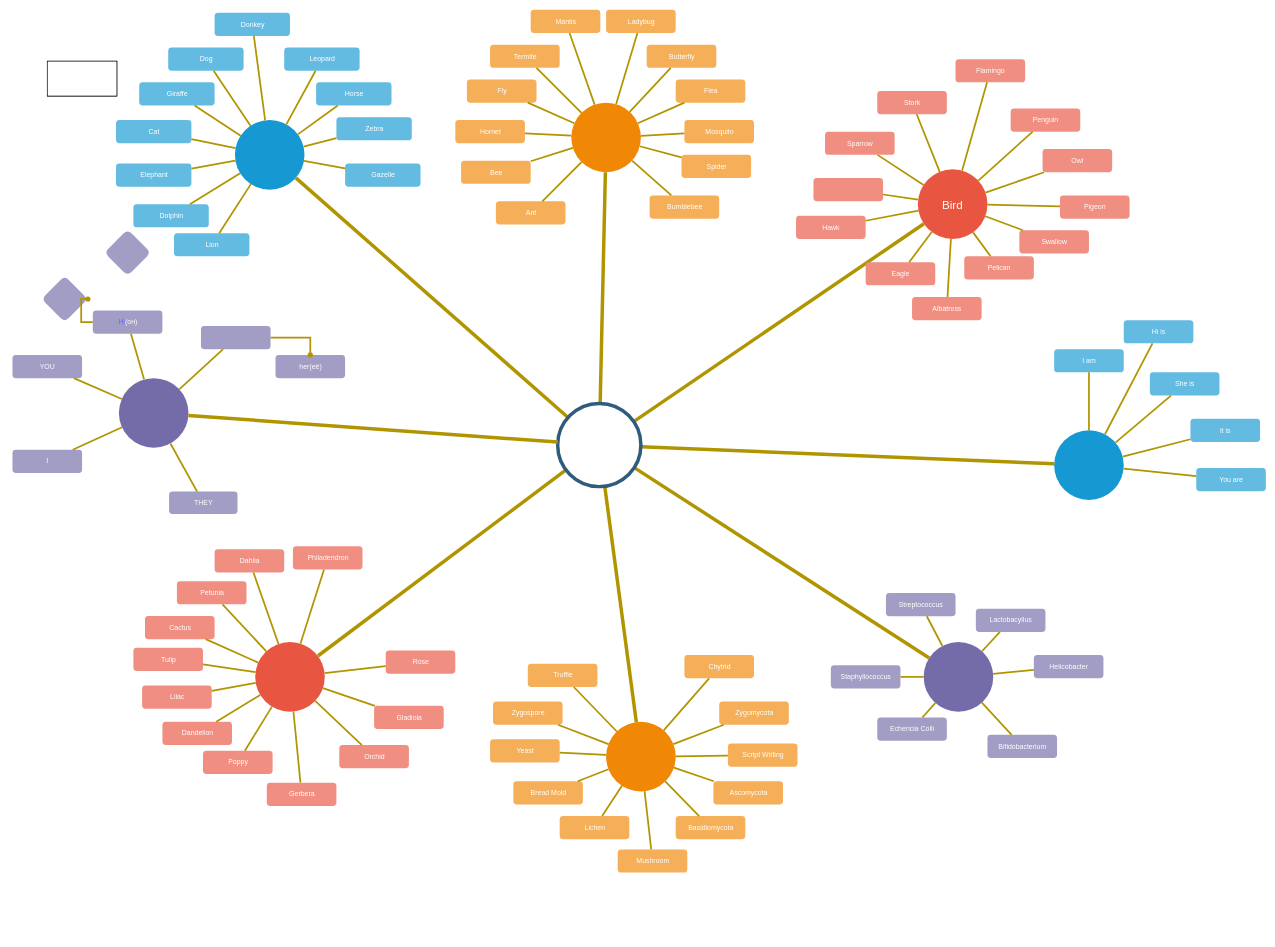
Some shapes in this 1275 by 947 pixel diagram are drawn without their labels. The shapes that lost their labels are listed below. From the top down, each one's centre as x and y in pixels, then its label:
the point at 269,154: Mammal
the point at 606,137: Insect
the point at 848,189: Falcon
the point at 127,252: his
the point at 64,299: him (ему)
the point at 235,337: SHE(она)
the point at 153,412: Simple
the point at 599,444: a374.ru
the point at 1088,465: Continouos + to be
the point at 290,676: Flower
the point at 958,676: Perfect
the point at 640,756: Fungi
